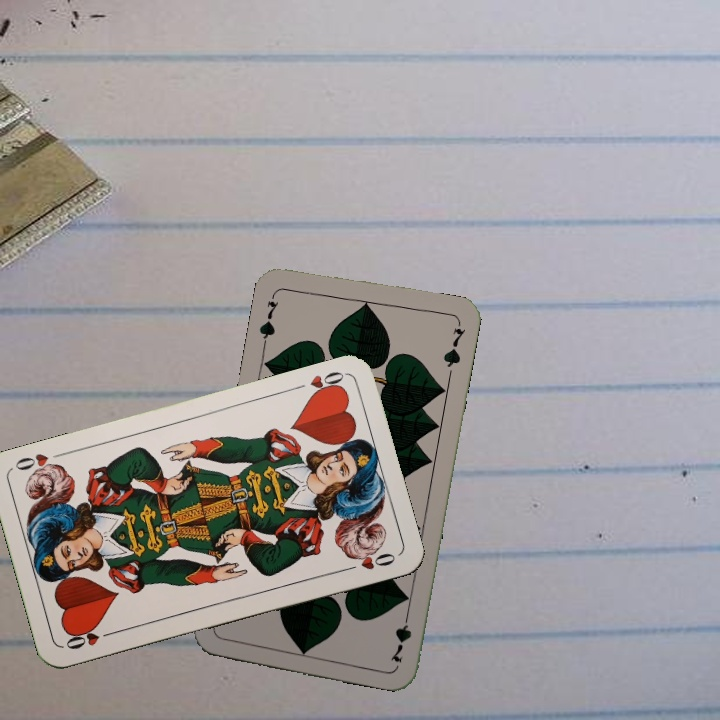G7: (386, 607, 414, 666), (255, 288, 282, 347)
HO: (61, 626, 119, 652), (305, 367, 348, 400)
